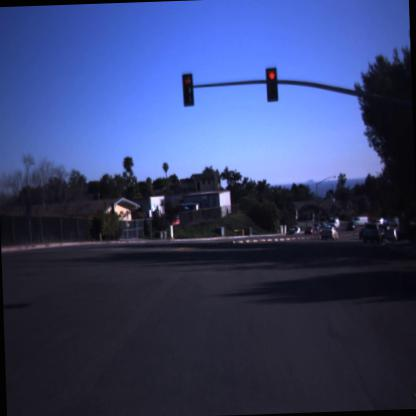trafficlight: (264, 65, 281, 105), (181, 71, 197, 108)
